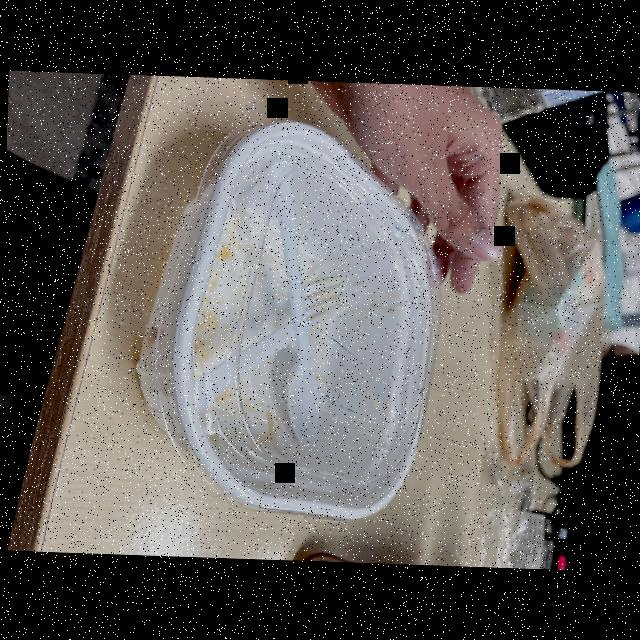plastic_box: (130, 110, 446, 528)
